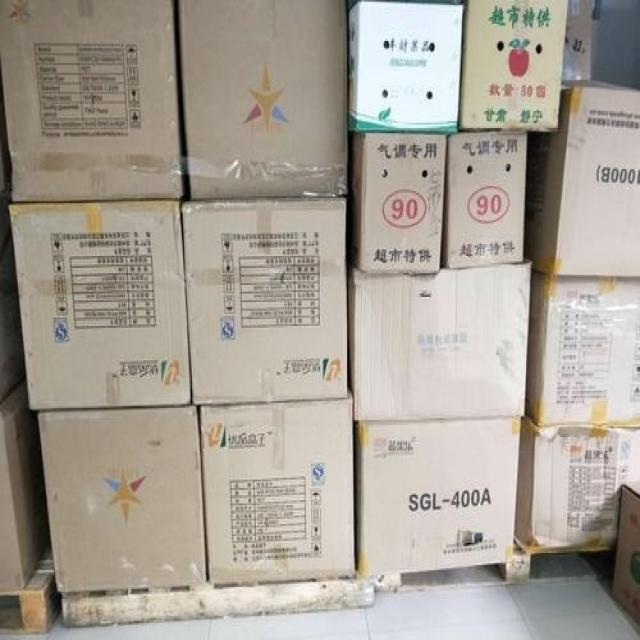Carton: (352, 2, 526, 418), (6, 198, 347, 403), (0, 2, 180, 200), (178, 2, 347, 200), (36, 410, 207, 584), (530, 280, 637, 543), (200, 396, 351, 573), (360, 418, 520, 572), (552, 87, 639, 278), (461, 0, 561, 126), (449, 131, 520, 265)
